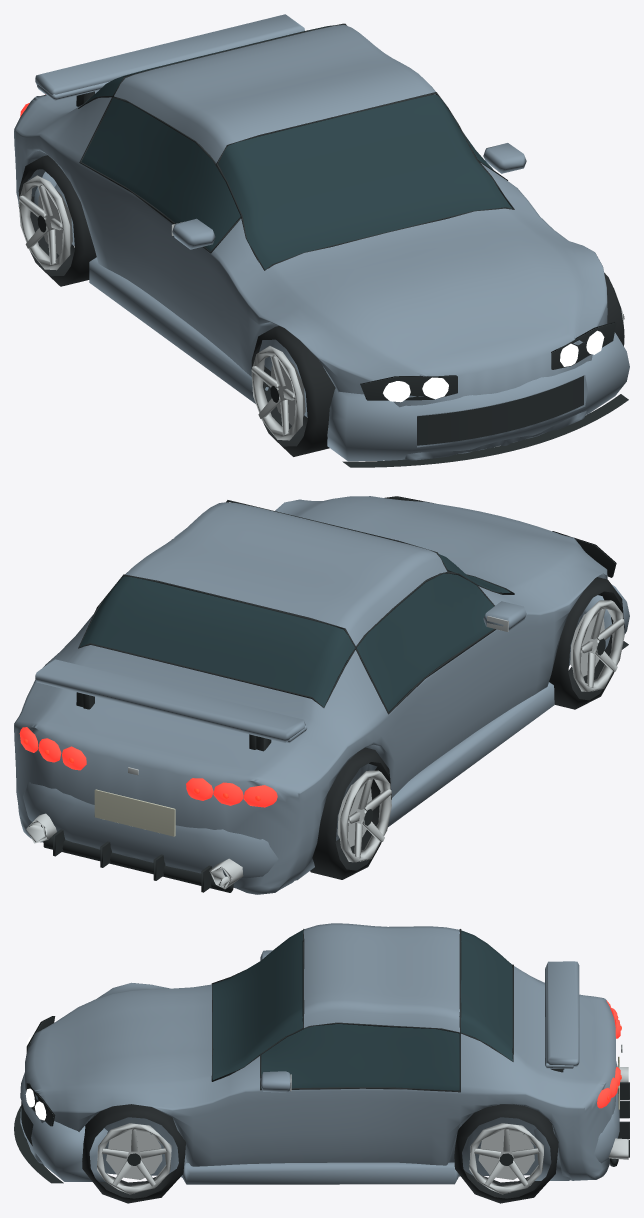
Rendered from orvane-neril.glb.
3 views of the same model, one above another, from view 1: azimuth 30°, elevation 25°; view 2: azimuth 150°, elevation 25°; view 3: azimuth 270°, elevation 25° (orthographic). The views are drawn at different scales.
Visible parts, largest first — view 1: cofano, cristallo_ant, scocca, tetto, porta_sx, cristallo_sx, paraurti_ant, spoiler, griglia, minigonna_sx, ruota_ant_sx_gomma, ruota_post_sx_gomma (+17 smaller); view 2: scocca, tetto, portellone, cristallo_post, cofano, porta_sx, cristallo_sx, paraurti_post, spoiler, minigonna_sx, ruota_post_sx_gomma, ruota_ant_sx_gomma (+15 smaller); view 3: scocca, porta_dx, tetto, cofano, cristallo_dx, cristallo_ant, portellone, minigonna_dx, cristallo_post, spoiler, ruota_post_dx_gomma, paraurti_ant (+13 smaller).
Part boxes in pixels (x1,y1,x2,y2): cofano: [265, 208, 583, 366]; cristallo_ant: [218, 94, 512, 269]; scocca: [14, 97, 607, 460]; tetto: [114, 25, 435, 162]; porta_sx: [80, 163, 225, 353]; cristallo_sx: [81, 98, 240, 251]; paraurti_ant: [327, 332, 629, 461]; spoiler: [35, 14, 304, 94]; griglia: [417, 375, 583, 445]; minigonna_sx: [89, 257, 268, 403]; ruota_ant_sx_gomma: [251, 326, 335, 456]; ruota_post_sx_gomma: [18, 155, 96, 286]; scocca: [14, 499, 607, 894]; tetto: [125, 502, 447, 645]; portellone: [28, 645, 323, 784]; cristallo_post: [79, 576, 354, 707]; cofano: [295, 496, 583, 594]; porta_sx: [366, 625, 517, 797]; cristallo_sx: [357, 573, 493, 711]; paraurti_post: [23, 782, 314, 880]; spoiler: [35, 659, 305, 742]; minigonna_sx: [388, 682, 554, 826]; ruota_post_sx_gomma: [310, 747, 391, 879]; ruota_ant_sx_gomma: [549, 577, 624, 709]; scocca: [25, 976, 615, 1180]; porta_dx: [245, 1088, 460, 1176]; tetto: [303, 923, 459, 1032]; cofano: [46, 984, 211, 1095]; cristallo_dx: [261, 1024, 459, 1090]; cristallo_ant: [212, 930, 303, 1079]; portellone: [513, 966, 615, 1090]; minigonna_dx: [182, 1162, 458, 1184]; cristallo_post: [461, 930, 512, 1061]; spoiler: [546, 961, 579, 1066]; ruota_post_dx_gomma: [454, 1104, 558, 1203]; paraurti_ant: [20, 1072, 107, 1181].
Size of the model in its own units: 2.01 by 1.29 by 3.96.
